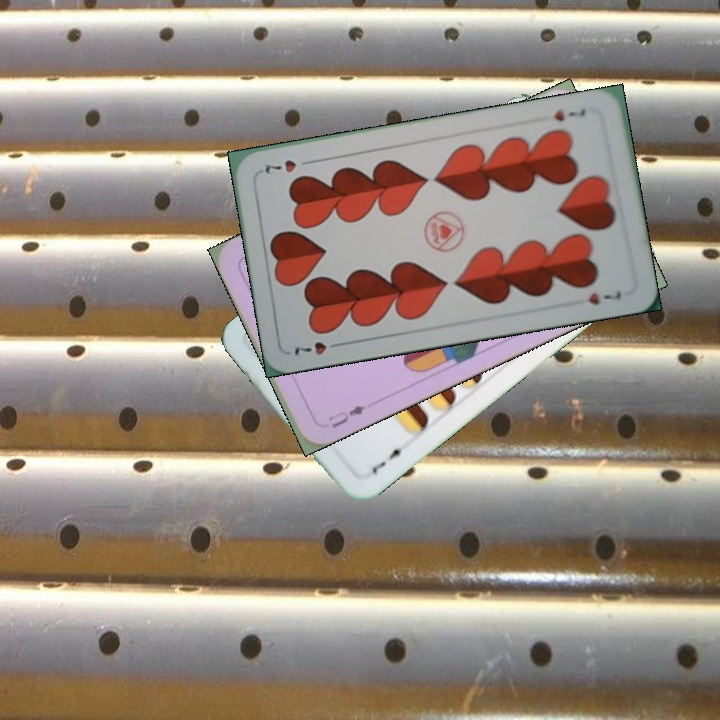E7: (366, 442, 410, 476)
EU: (324, 401, 369, 431)
H7: (290, 337, 346, 359), (550, 105, 588, 124)
